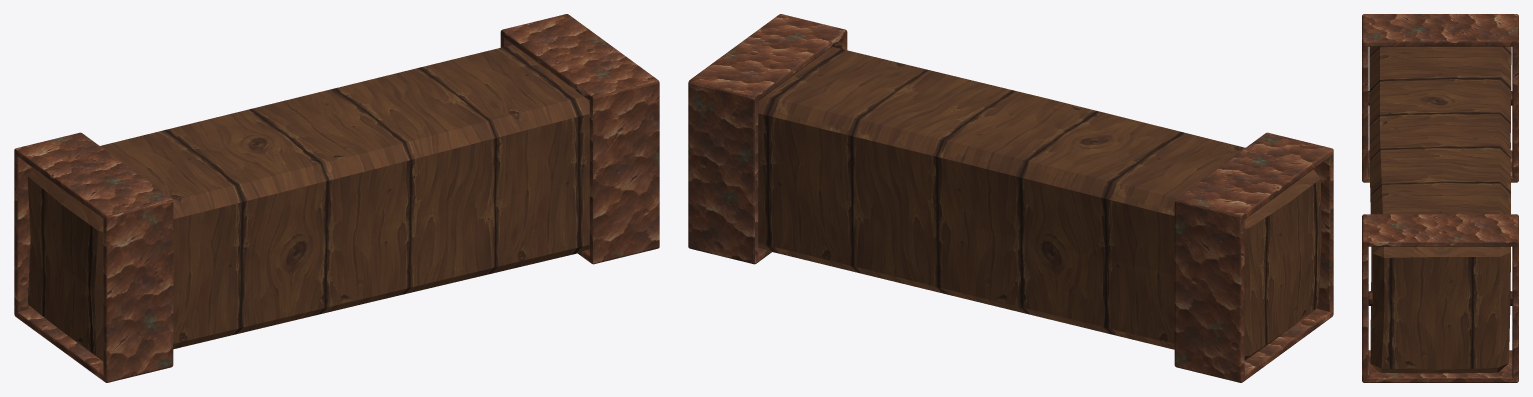
Rendered from beam_half__cut_stone.glb.
3 views of the same model, side by side, from view 1: azimuth 30°, elevation 25°; view 2: azimuth 150°, elevation 25°; view 3: azimuth 270°, elevation 25° (orthographic). The views are drawn at different scales.
Visible parts, largest first — view 1: model; view 2: model; view 3: model.
Part boxes in pixels (x1,y1,x2,y2): model: (14, 14, 659, 382); model: (688, 14, 1333, 382); model: (1362, 14, 1518, 382).
Size of the model in its own units: 0.984 by 0.286 by 0.286.
3 materials, 3 textured.
